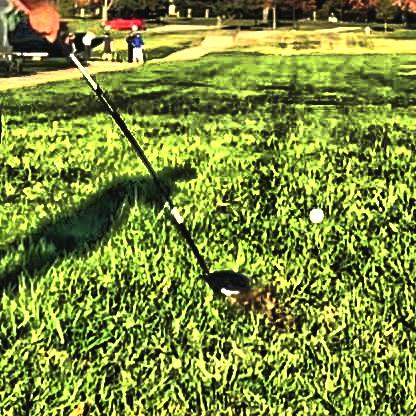golfball: (306, 204, 321, 219)
